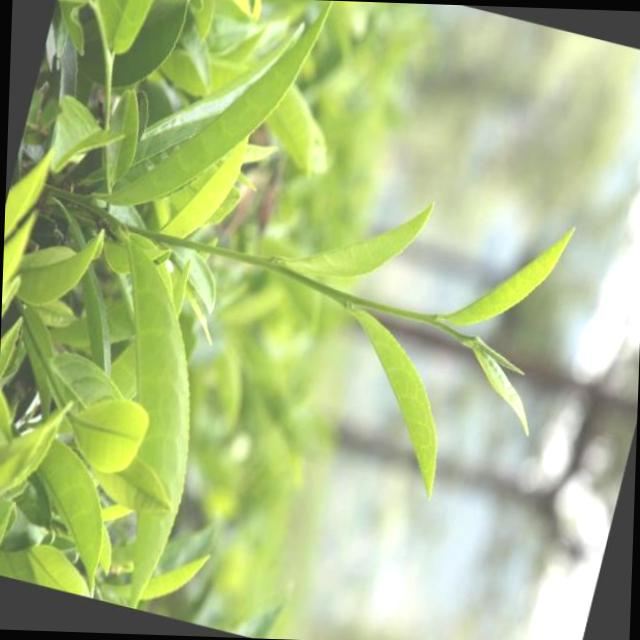Stem: (423, 313, 435, 322)
